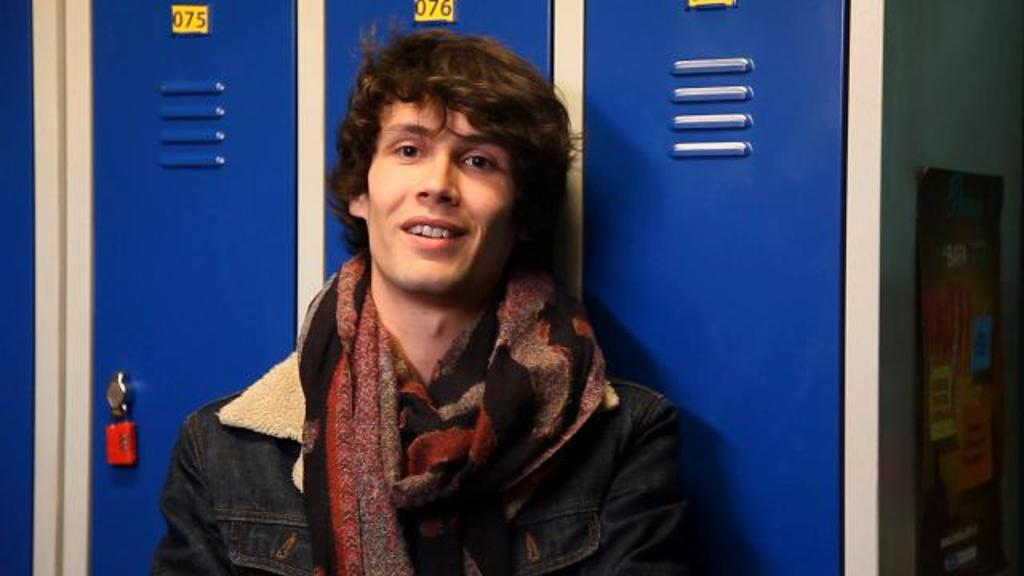face: (377, 99, 509, 279)
